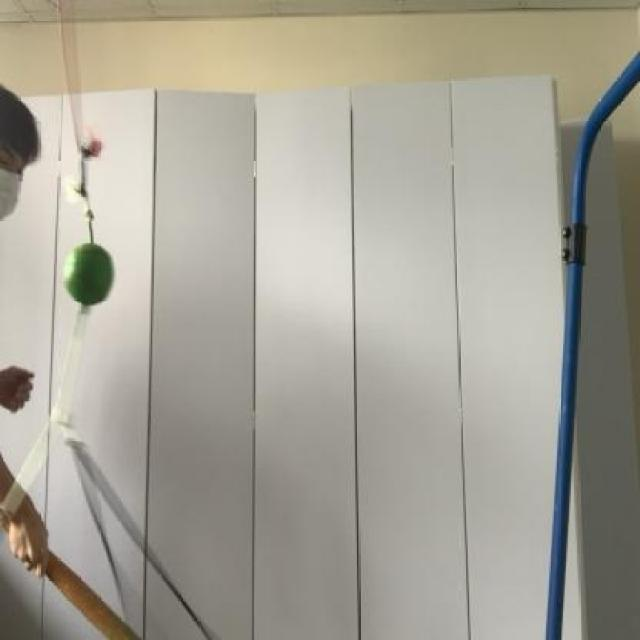baseball: (57, 234, 114, 312)
